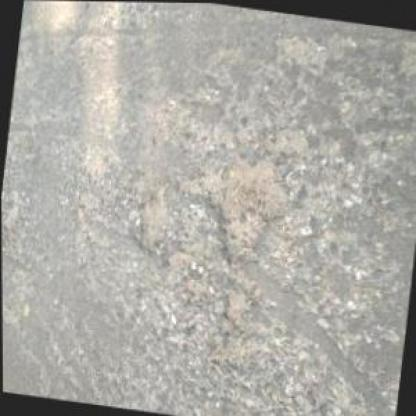pothole: (190, 148, 294, 272), (133, 183, 176, 257), (219, 284, 250, 330)
